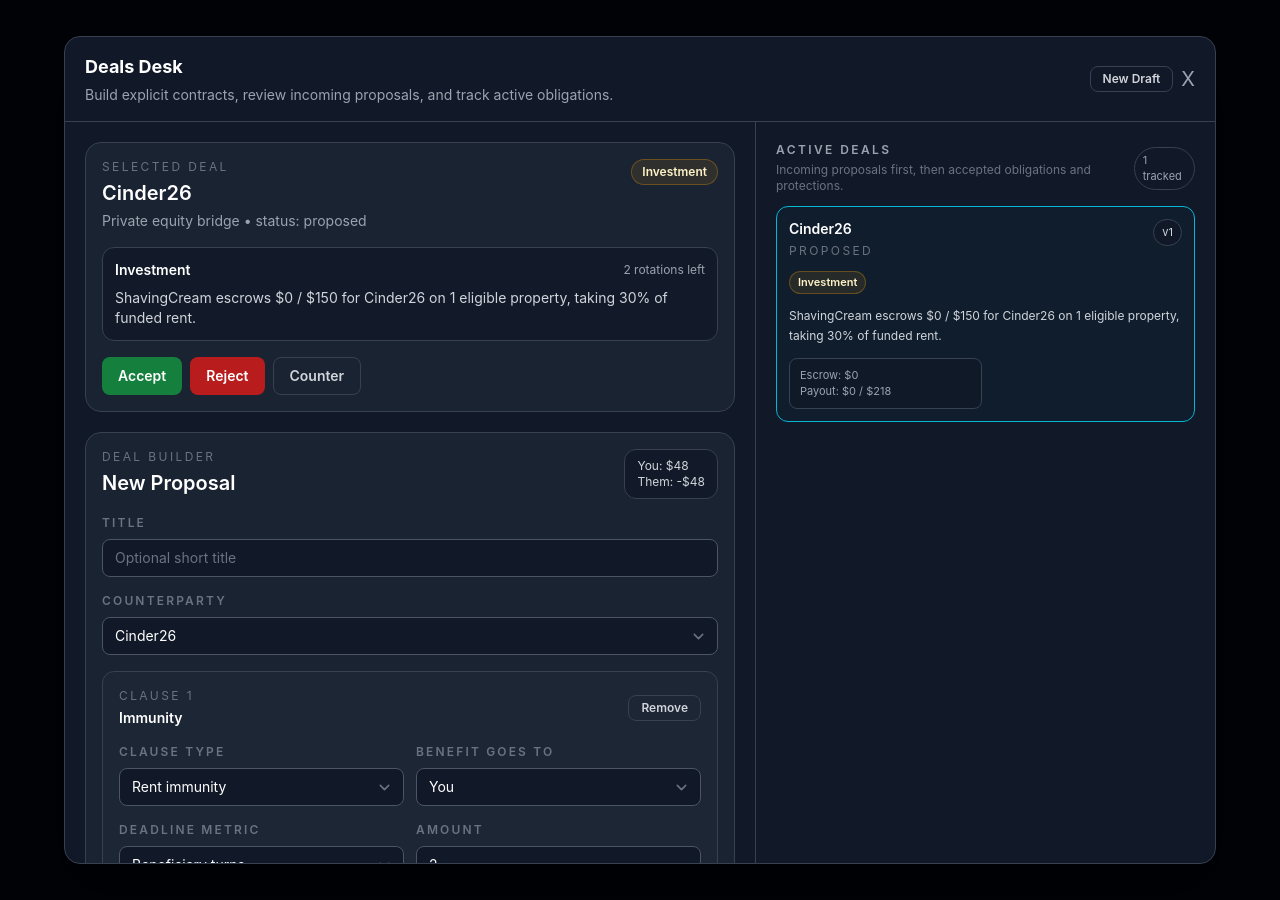
Test case: DealDeskModal › keeps the counter draft visible when the investor cannot fund the escrow
What coordinates should you click on to do the following:
click the button "Counter"
I would click on:
 (317, 376)
Its box is [272,357,361,395].
(page scrolled)
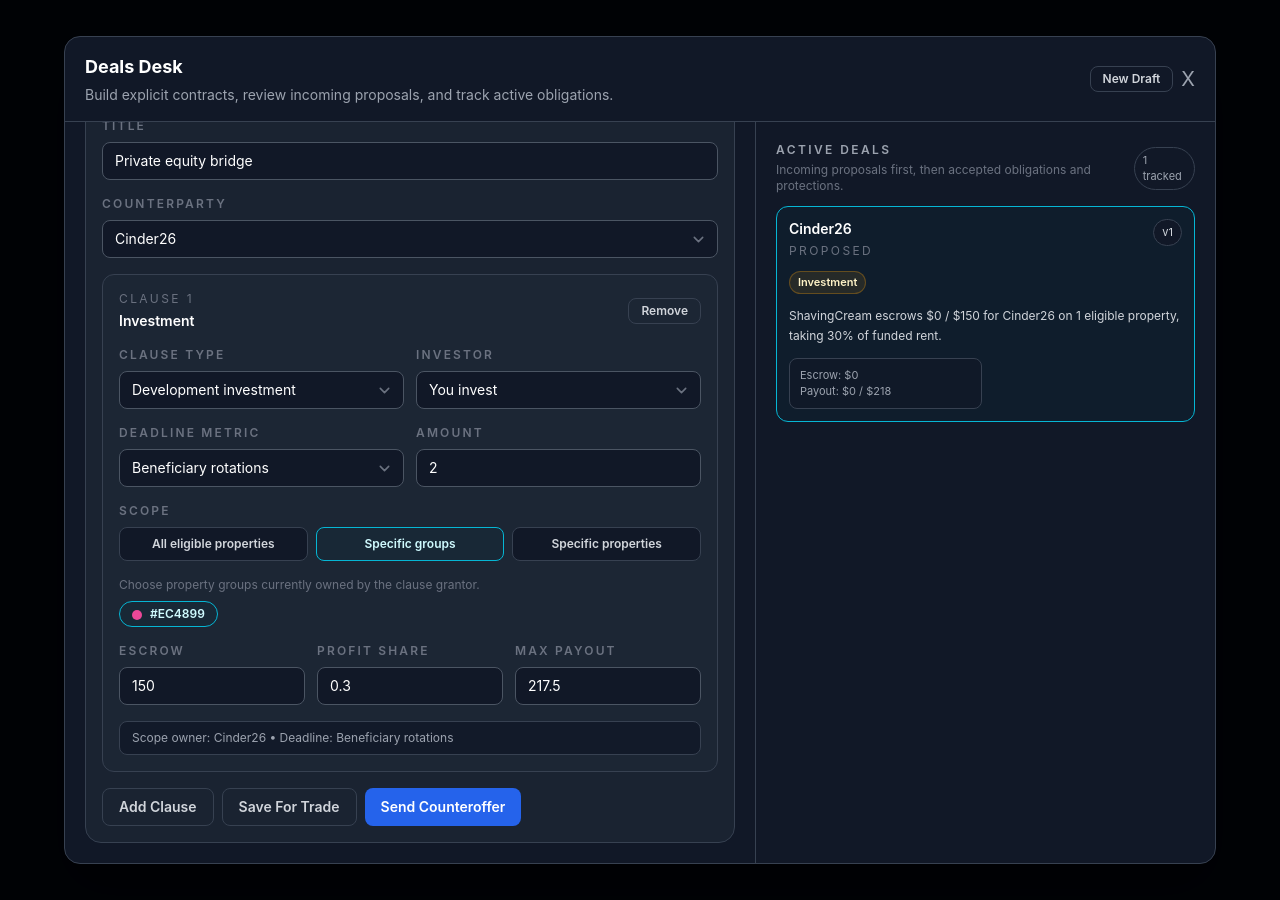
What coordinates should you click on to do the following:
click the button "Send Counteroffer"
I would click on:
 (443, 807)
Its box is [364,788,521,826].
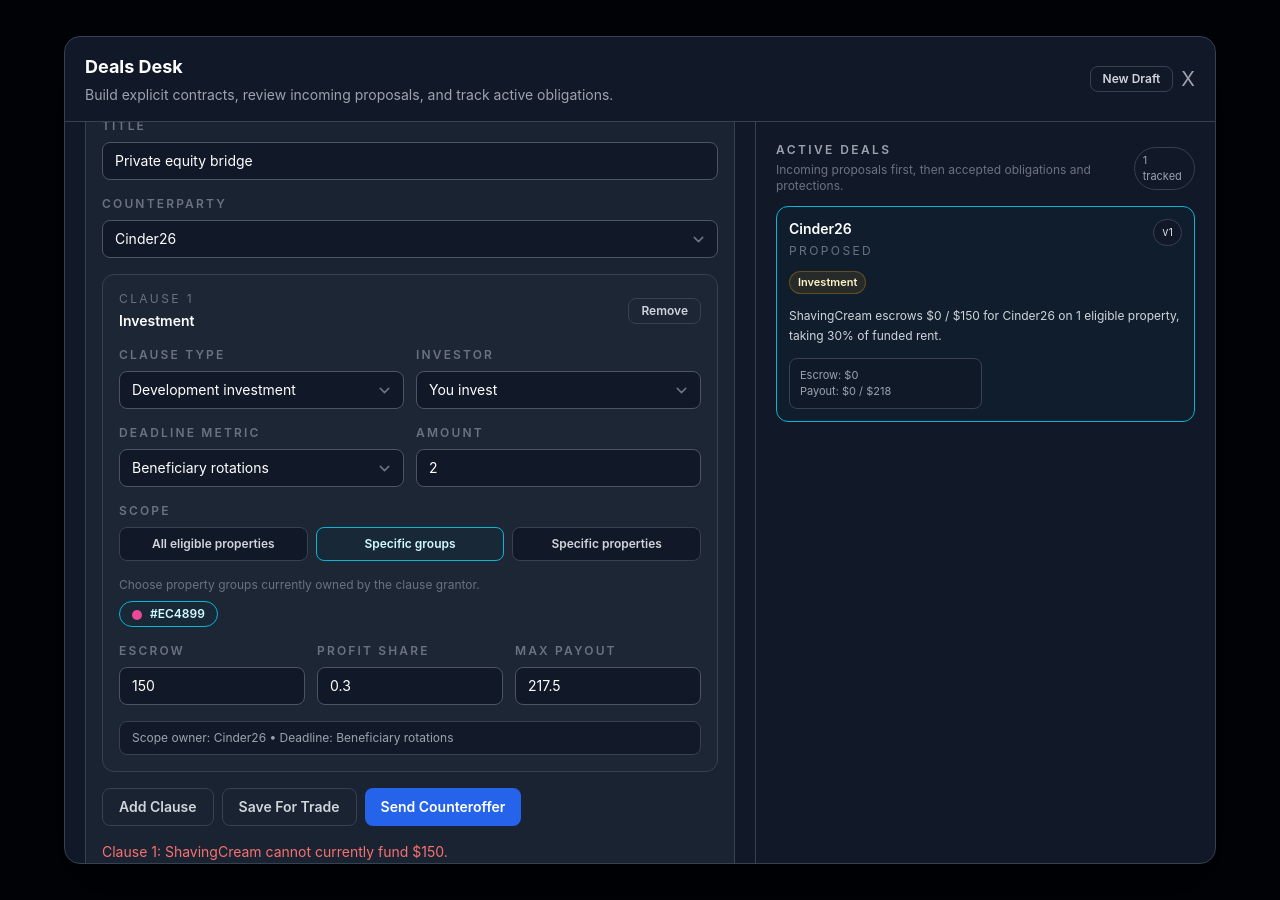
Expected: the field showing "Private equity bridge" is shown, [102,142,718,180]
Expected: the text "Clause 1: ShavingCream cannot currently fund $150." is shown, [102,843,448,860]
